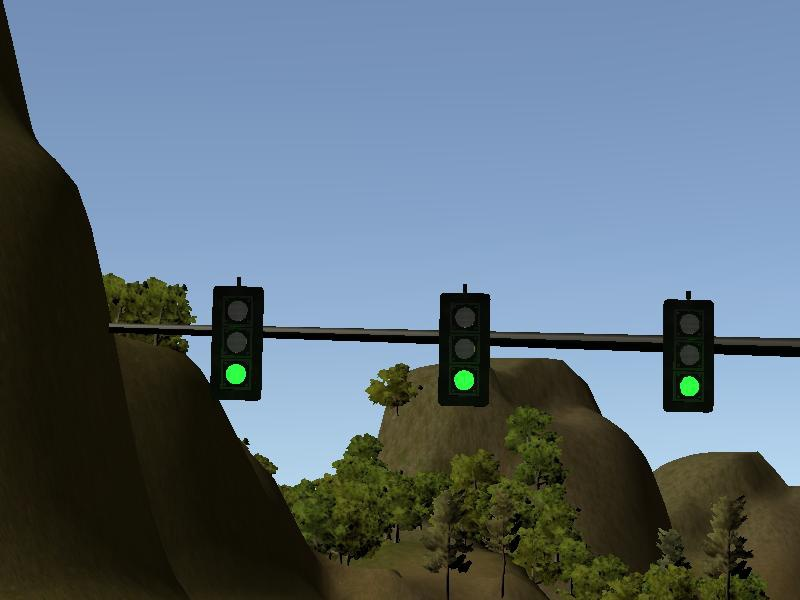Green: (211, 286, 261, 401), (664, 299, 713, 413), (440, 294, 488, 407)
